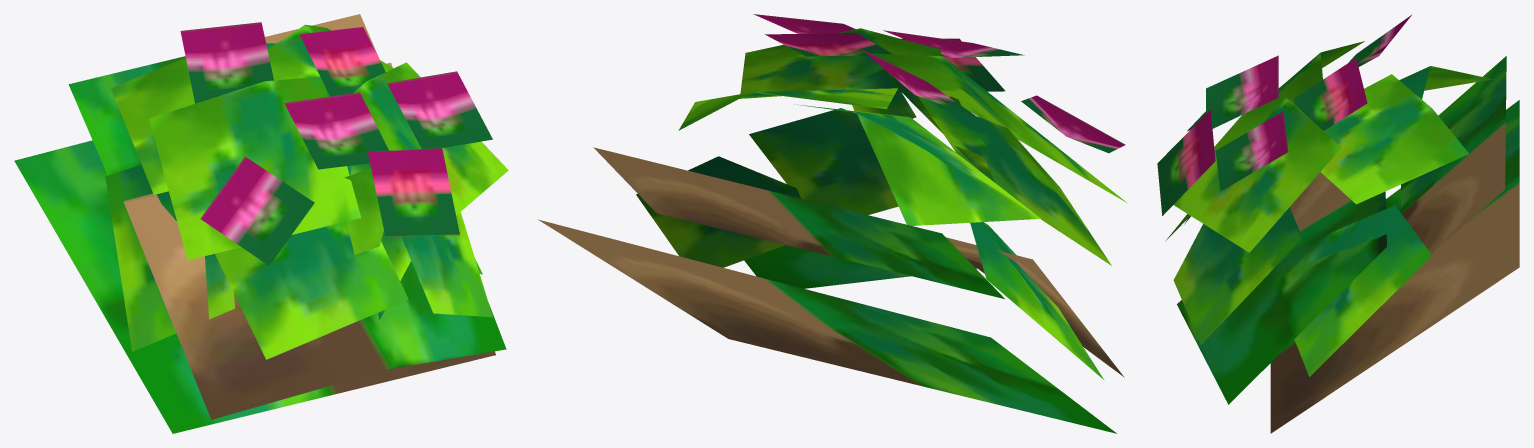
File: fg_bushB_2_pi.dae
3 views of the same model, side by side, from view 1: azimuth 30°, elevation 25°; view 2: azimuth 150°, elevation 25°; view 3: azimuth 270°, elevation 25° (orthographic). The views are drawn at different scales.
Visible parts, largest first — view 1: fg_bushB_2_pi; view 2: fg_bushB_2_pi; view 3: fg_bushB_2_pi.
Part boxes in pixels (x1=…): fg_bushB_2_pi: x1=14, y1=14, x2=508, y2=433; fg_bushB_2_pi: x1=538, y1=14, x2=1126, y2=433; fg_bushB_2_pi: x1=1157, y1=15, x2=1519, y2=433.
Bounding box in the file's own units: 43.24 × 36.09 × 38.13.
1 material, 1 textured.
